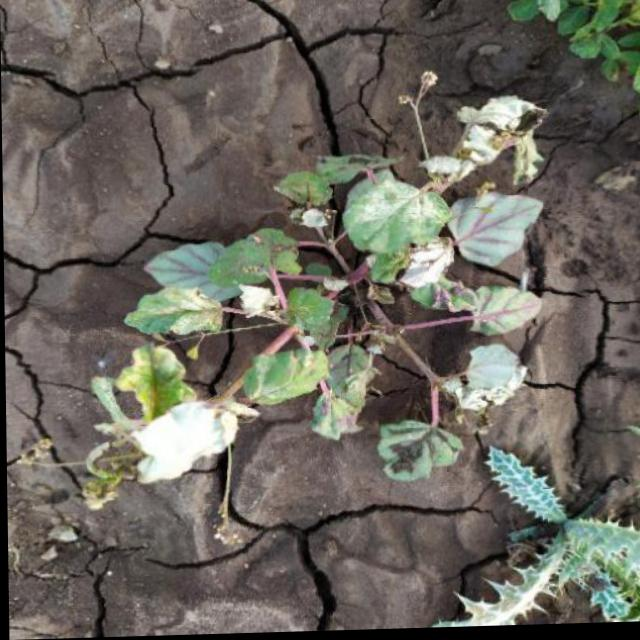weed: (71, 84, 566, 496), (434, 454, 640, 608)
